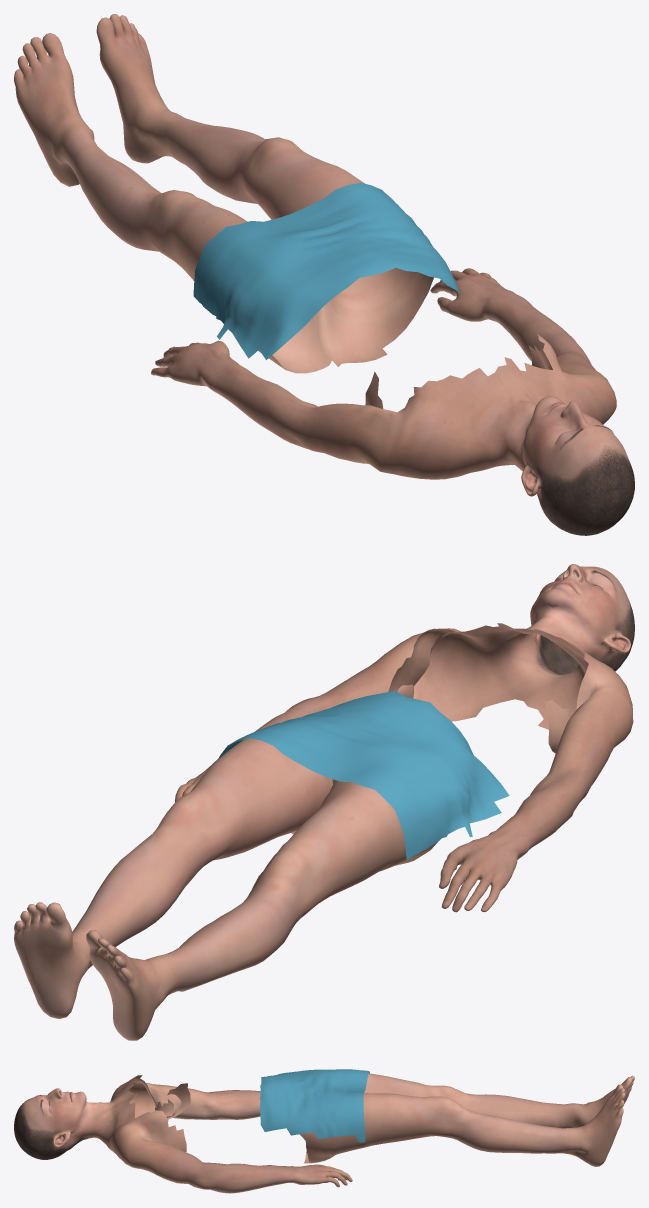
3 views of the same model, one above another, from view 1: azimuth 30°, elevation 25°; view 2: azimuth 150°, elevation 25°; view 3: azimuth 270°, elevation 25° (orthographic). The views are drawn at different scales.
Visible parts, largest first — view 1: Body, Serviette; view 2: Body, Serviette; view 3: Body, Serviette.
Boxes of the visible parts, box(x1,y1,x2,y2) form: Body: box(14, 14, 634, 535); Serviette: box(193, 182, 460, 359); Body: box(14, 564, 634, 1040); Serviette: box(218, 691, 509, 859); Body: box(14, 1073, 634, 1193); Serviette: box(260, 1069, 369, 1142).
Size of the model in its own units: 6425 by 2667 by 18642.
